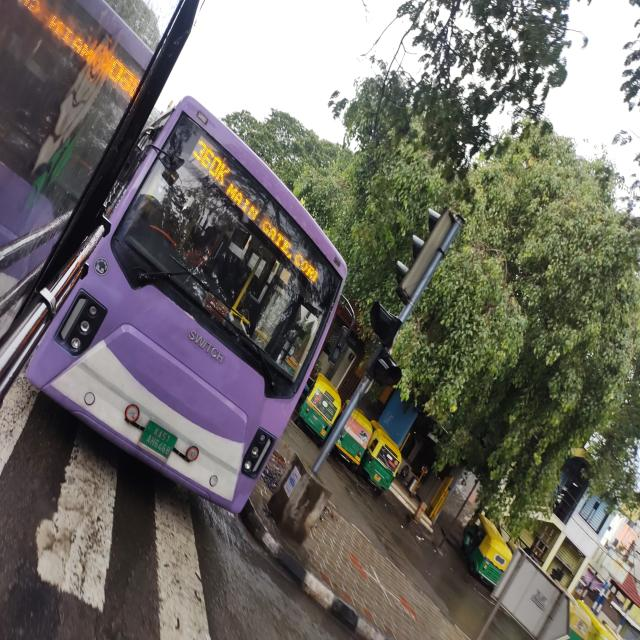bus: (21, 64, 354, 528)
display: (192, 132, 322, 285)
dnumber: (194, 134, 230, 184)
